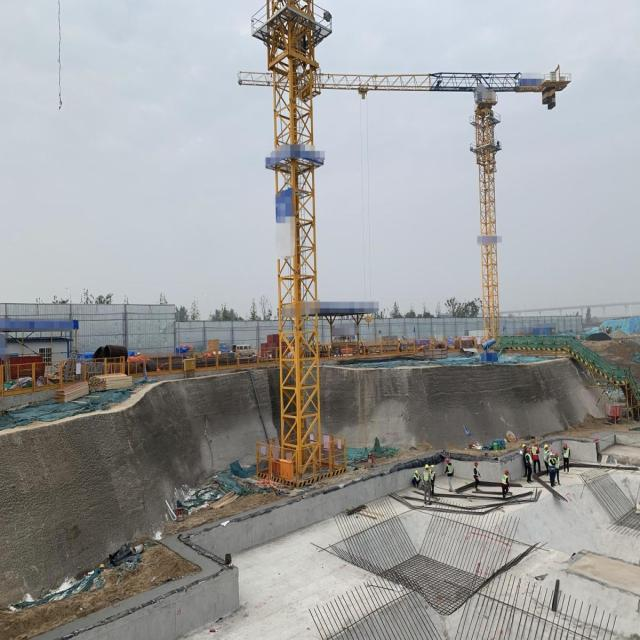crane: (230, 60, 576, 348), (250, 0, 341, 489)
